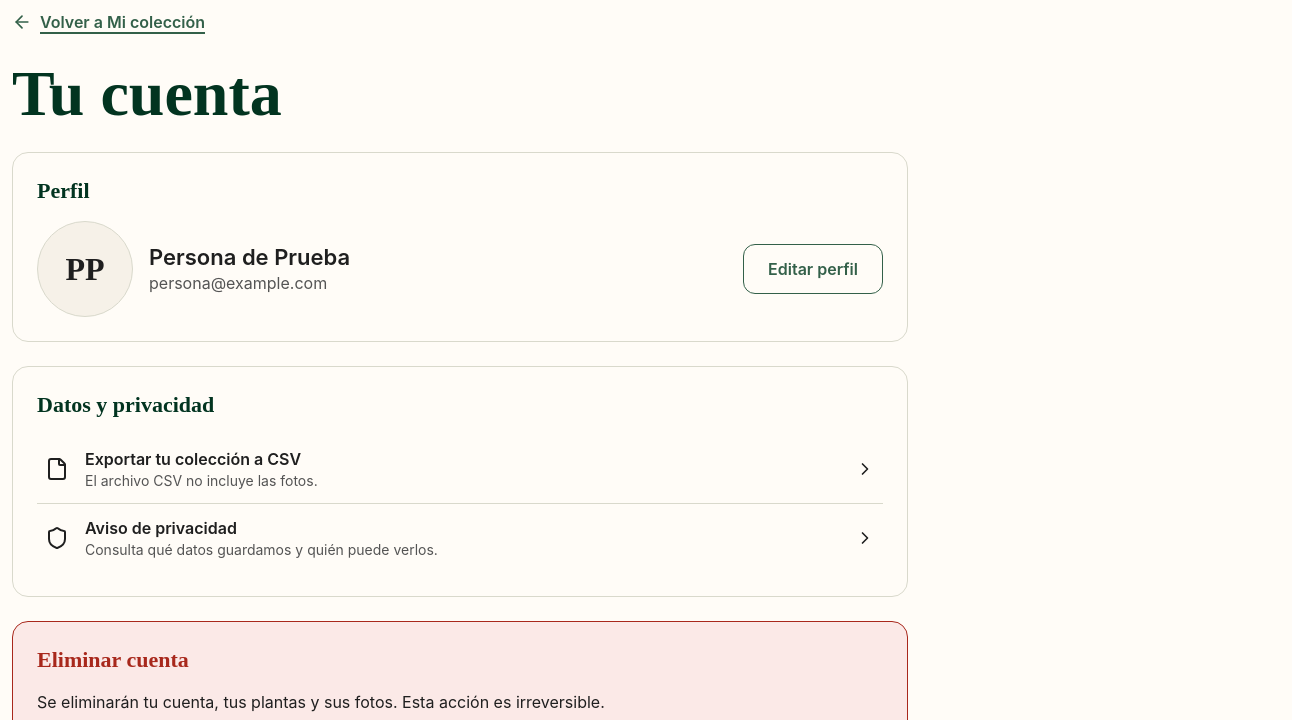
Test: AccountPage: rediseño de «Tu cuenta» (#214) › si no se puede crear el archivo, lo dice
Step 1. Click the button "Exportar tu colección a CSV" → (193, 459), box [37, 435, 883, 503]
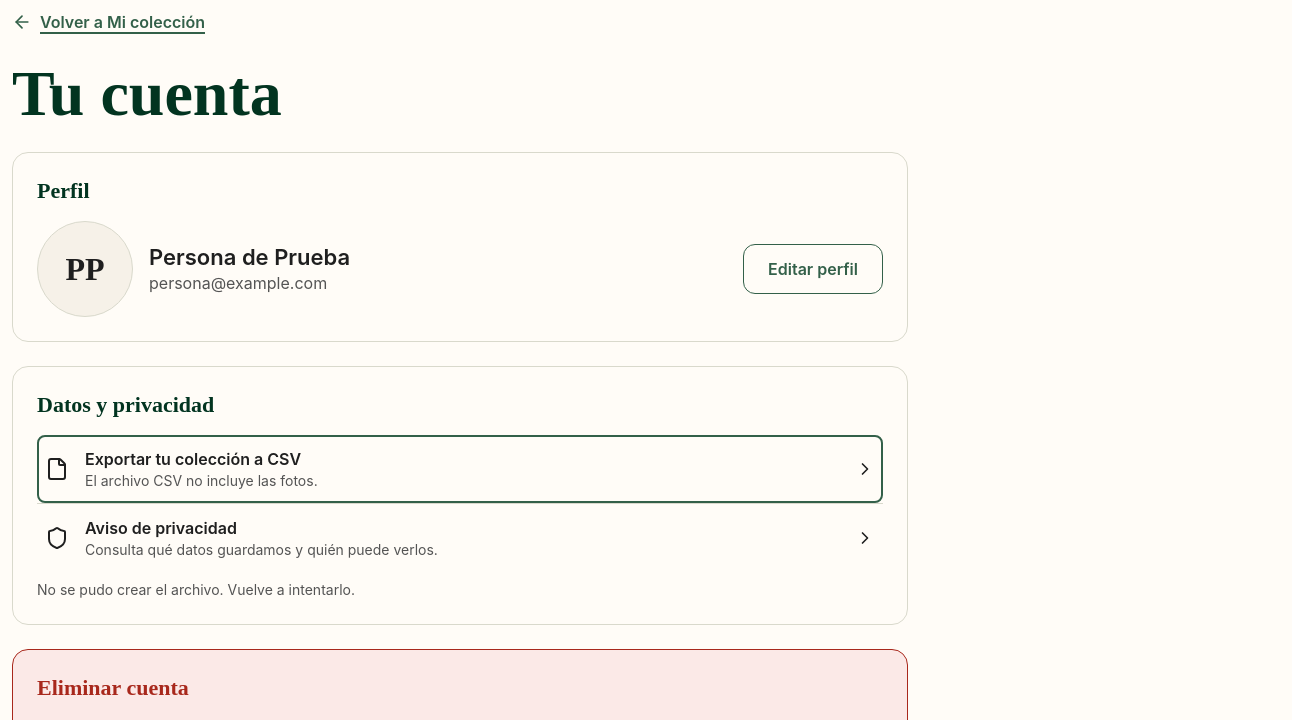
Expected: the message reads "No se pudo crear el archivo. Vuelve a intentarlo.", [37, 581, 355, 598]
